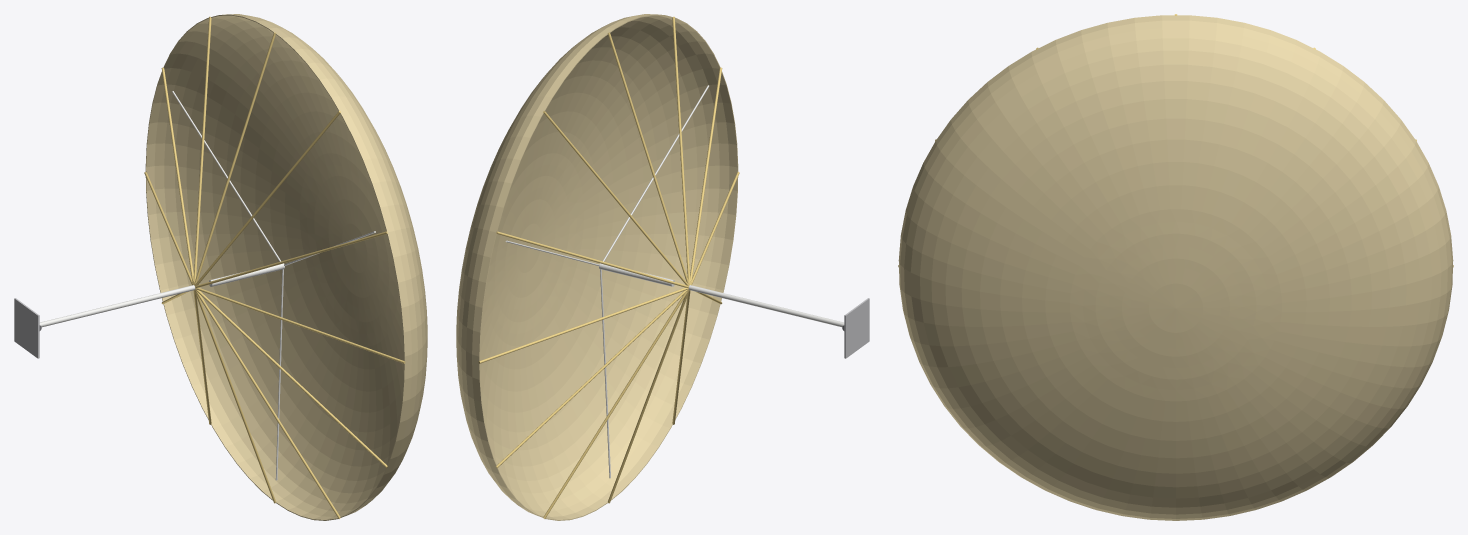
The model's file is power16_mesh_antenna_xl_deployed.glb.
The picture shows the model from 3 angles, left to right: view 1: azimuth 30°, elevation 25°; view 2: azimuth 150°, elevation 25°; view 3: azimuth 270°, elevation 25°; orthographic projection. The views are drawn at different scales.
Parts seen in each view (by area): view 1: dish_mesh, dish_ribs, feed, mount, boom; view 2: dish_mesh, dish_ribs, feed, mount, boom; view 3: dish_mesh.
Part boxes in pixels (bbox=[...]): dish_mesh: bbox=[145, 14, 427, 520]; dish_ribs: bbox=[144, 16, 405, 518]; feed: bbox=[172, 91, 375, 480]; mount: bbox=[14, 298, 39, 358]; boom: bbox=[39, 285, 195, 327]; dish_mesh: bbox=[456, 14, 738, 520]; dish_ribs: bbox=[478, 16, 739, 518]; feed: bbox=[505, 85, 709, 478]; mount: bbox=[844, 298, 869, 358]; boom: bbox=[688, 285, 844, 327]; dish_mesh: bbox=[898, 15, 1453, 520].
Bounding box in the file's own units: 8.82 × 12.02 × 12.02.
